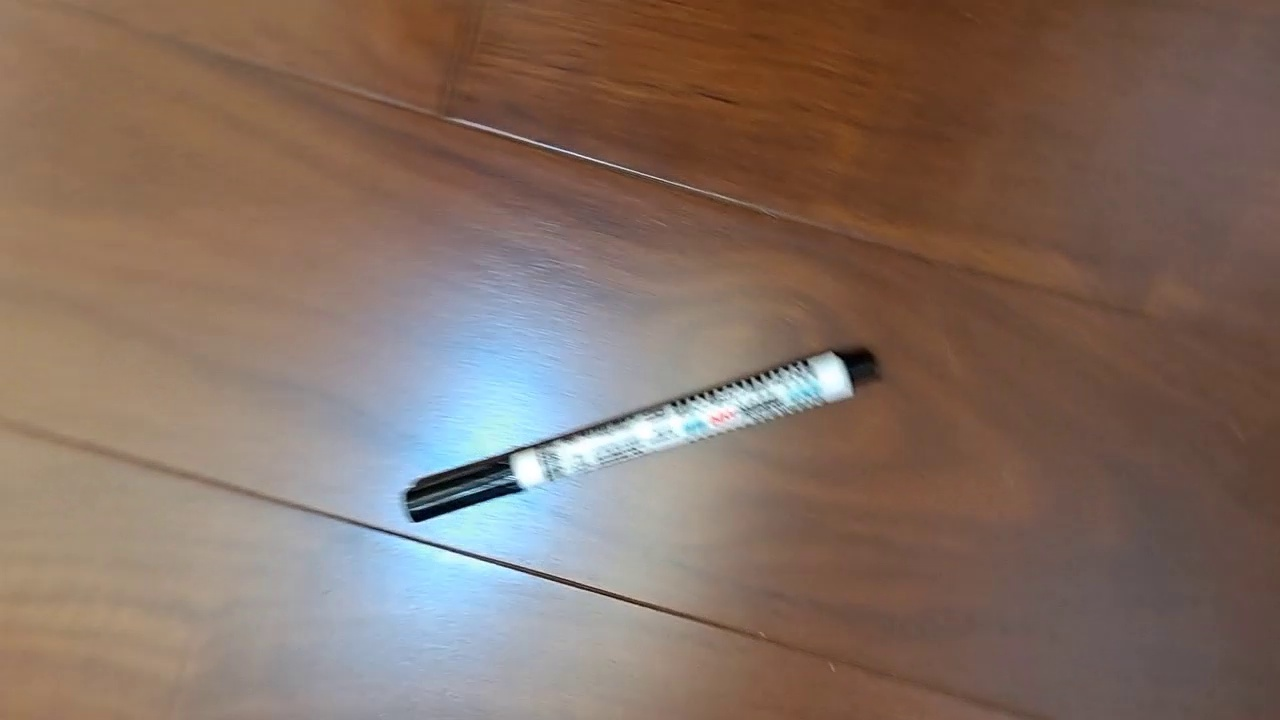pen: (400, 343, 883, 524)
